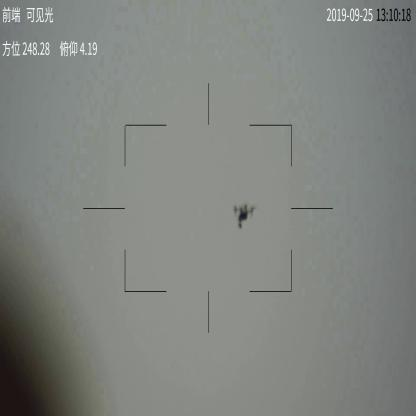uav: (233, 202, 255, 231)
